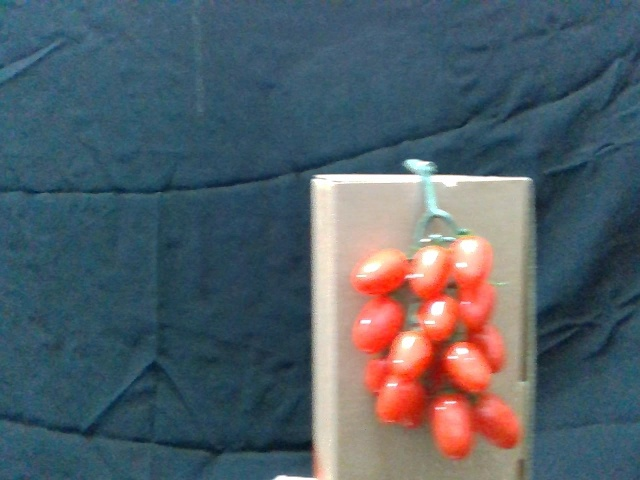tomato: (431, 396, 477, 459), (355, 297, 404, 355), (473, 396, 523, 451), (444, 343, 494, 395), (377, 375, 424, 430), (355, 251, 411, 297), (409, 241, 453, 298), (387, 330, 434, 377), (415, 293, 458, 343), (453, 235, 492, 290), (458, 281, 496, 334), (470, 321, 506, 371), (363, 352, 399, 398)
